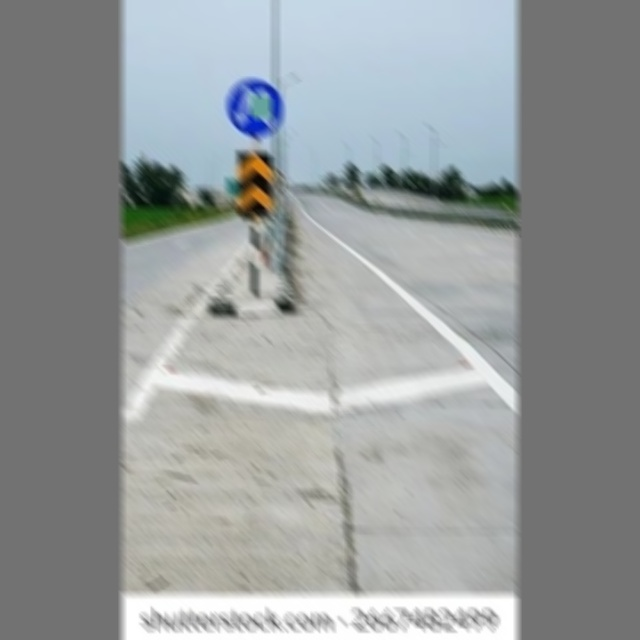Pass_Either_Side: (222, 74, 287, 143)
